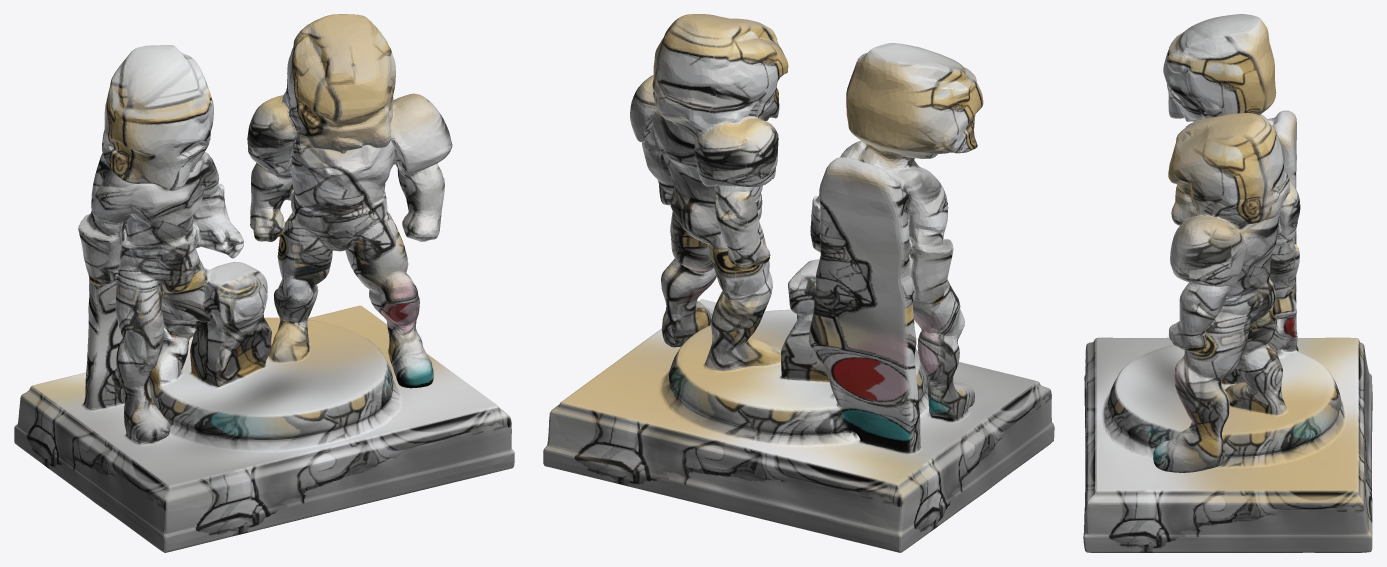
Rendered from empty_plinth.glb.
The picture shows the model from 3 angles, left to right: view 1: azimuth 30°, elevation 25°; view 2: azimuth 150°, elevation 25°; view 3: azimuth 270°, elevation 25°; orthographic projection. The views are drawn at different scales.
Parts seen in each view (by area): view 1: geometry_0; view 2: geometry_0; view 3: geometry_0.
Part boxes in pixels (left/top/right/bottom): geometry_0: left=14, top=14, right=514, bottom=552; geometry_0: left=543, top=14, right=1054, bottom=552; geometry_0: left=1083, top=14, right=1372, bottom=552.
Size of the model in its own units: 0.8664 by 1 by 0.6509.
1 material, 1 textured.
